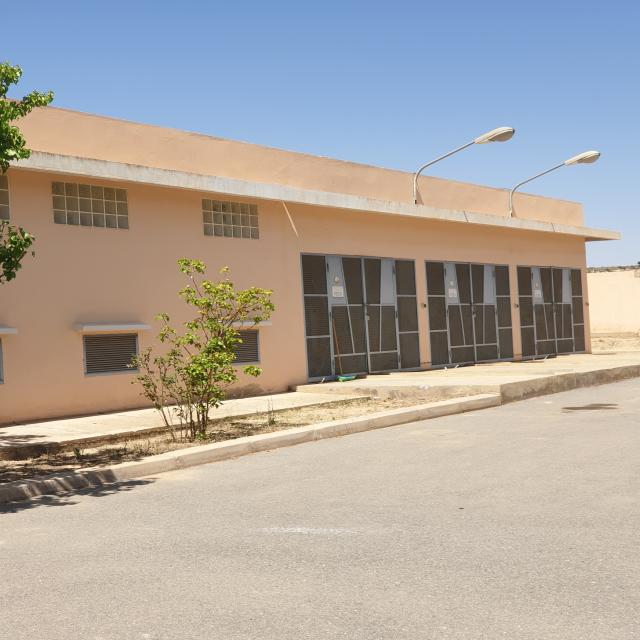Electric pole: (413, 126, 516, 204)
Tree: (131, 259, 274, 441)
